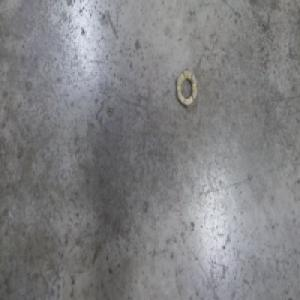Nut: (175, 65, 197, 108)
